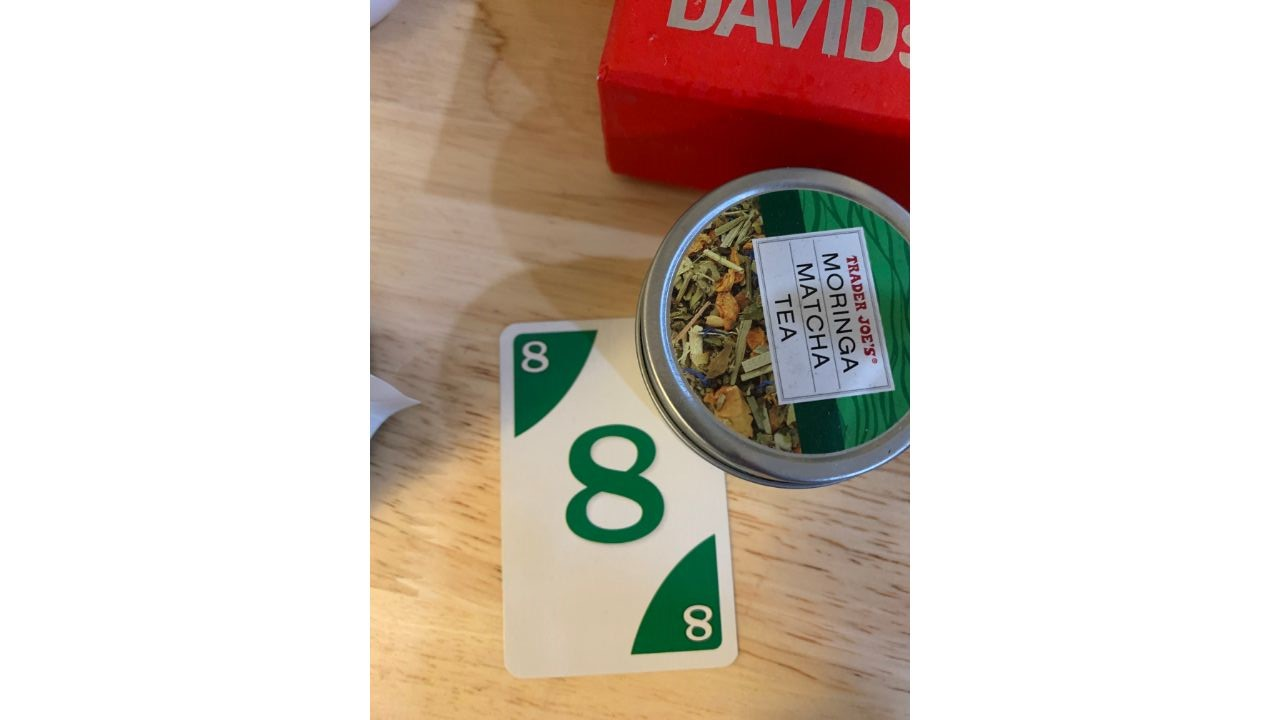eight: (495, 313, 749, 678)
